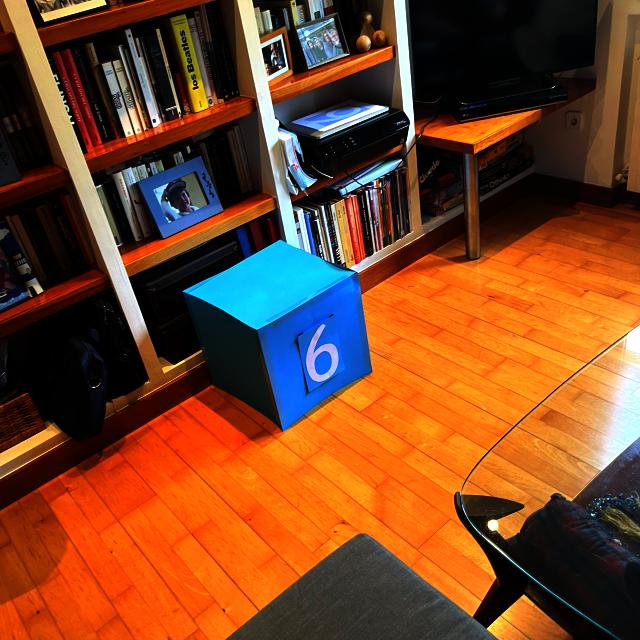box: (180, 237, 376, 432)
